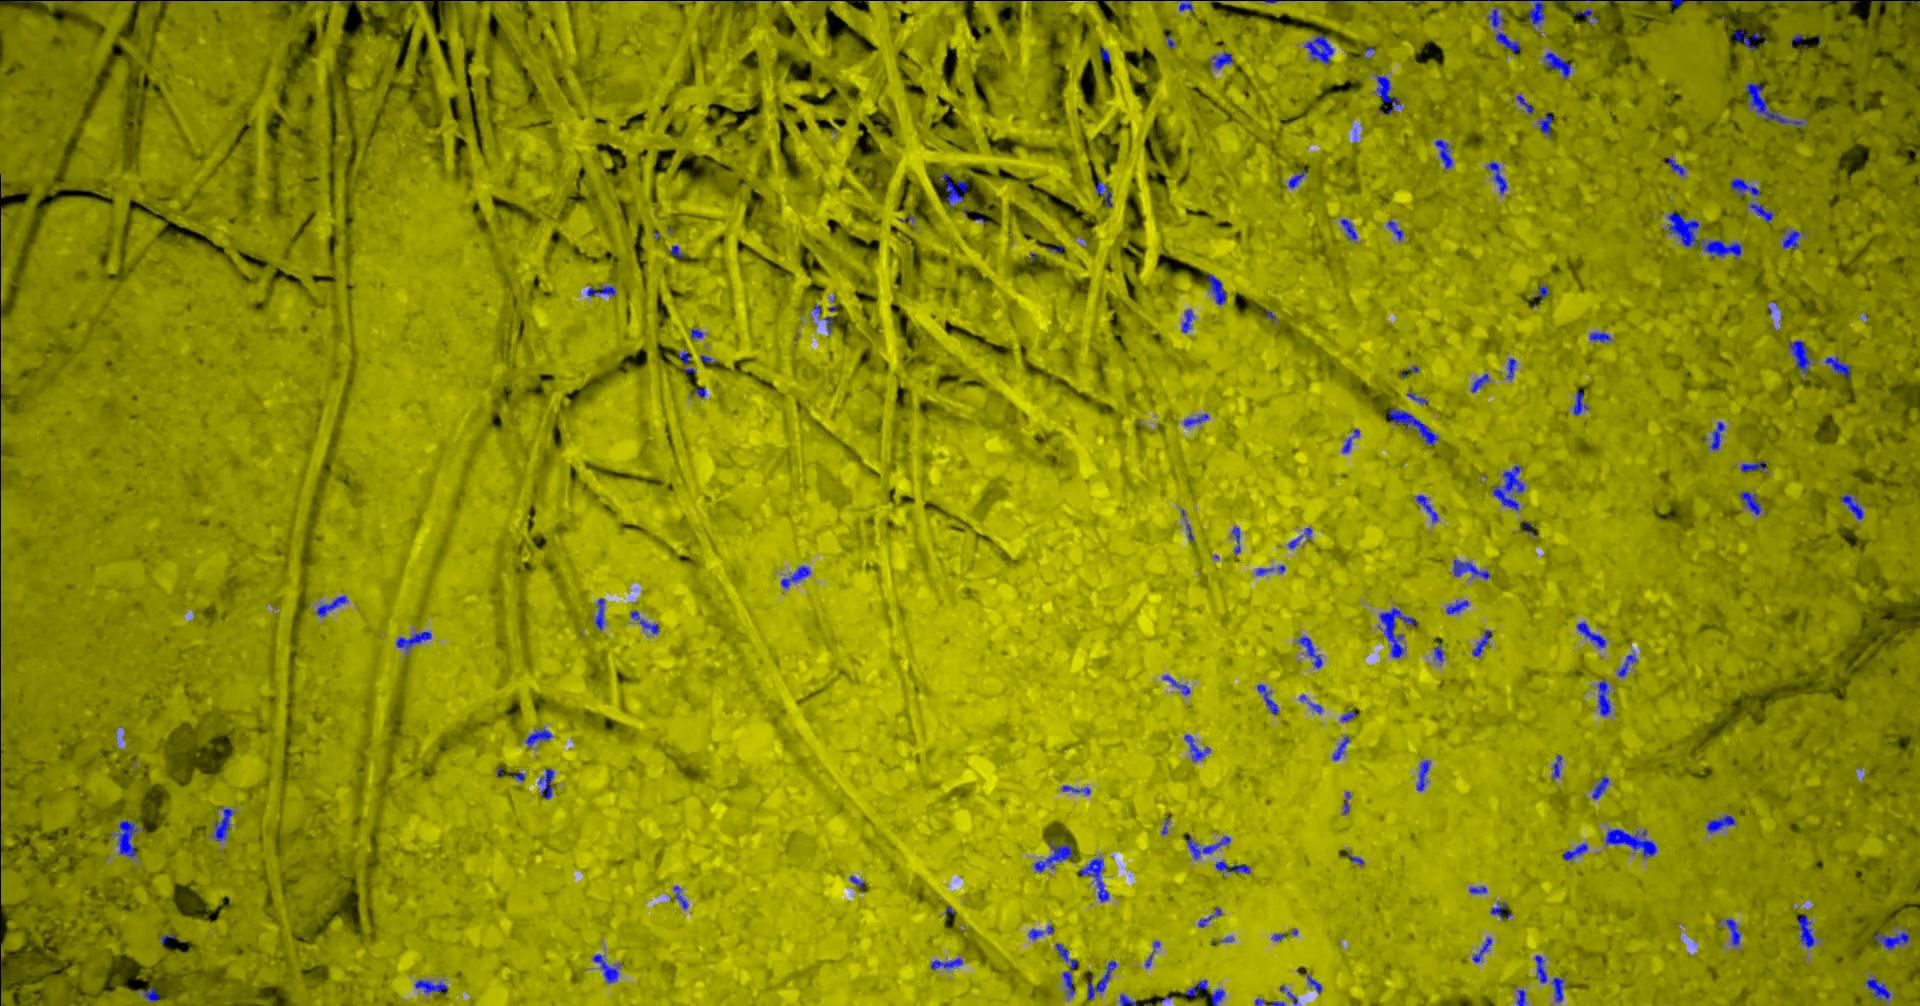ant: (1743, 81, 1802, 126), (1377, 607, 1417, 658), (1730, 177, 1773, 224), (1387, 406, 1437, 445), (1491, 465, 1524, 511), (1076, 857, 1109, 901), (1605, 828, 1656, 856), (1032, 840, 1072, 873), (1086, 959, 1116, 1000), (1055, 942, 1077, 997), (1186, 835, 1230, 859), (938, 171, 966, 210), (1374, 75, 1401, 113), (1303, 33, 1333, 64), (1872, 927, 1909, 950), (1297, 635, 1322, 668), (116, 819, 137, 857), (1575, 621, 1605, 648), (592, 953, 618, 983), (1451, 559, 1490, 579), (395, 631, 430, 652), (1484, 161, 1506, 194), (1788, 340, 1810, 373), (1543, 51, 1570, 77), (1183, 734, 1210, 761), (780, 565, 810, 588), (315, 594, 347, 616), (1823, 354, 1851, 379), (1256, 683, 1277, 714), (1415, 494, 1437, 522), (630, 610, 658, 633), (213, 808, 232, 841), (1796, 915, 1815, 948), (1839, 494, 1863, 520), (1495, 30, 1519, 55), (1864, 976, 1890, 998), (1733, 28, 1759, 50), (1208, 273, 1225, 304), (1162, 674, 1189, 695), (1434, 138, 1451, 168), (1705, 814, 1735, 832), (1596, 680, 1610, 716), (1470, 629, 1490, 655), (524, 729, 552, 747), (1214, 861, 1250, 875), (1738, 492, 1760, 514), (1288, 526, 1310, 547), (1197, 907, 1222, 927), (1470, 937, 1491, 962), (1095, 180, 1112, 207), (414, 979, 447, 993), (1709, 420, 1724, 450), (537, 768, 552, 798), (1561, 843, 1587, 860), (1723, 920, 1740, 946), (1617, 653, 1636, 676), (1299, 694, 1322, 713), (1341, 428, 1359, 452), (1416, 760, 1430, 790), (1528, 0, 1544, 25), (930, 956, 963, 969), (1210, 51, 1233, 69), (1537, 111, 1552, 137), (1572, 391, 1589, 415), (1332, 735, 1349, 760), (1027, 923, 1053, 939), (678, 351, 695, 373), (1591, 776, 1608, 799), (1185, 979, 1208, 996), (673, 885, 688, 909), (1279, 984, 1297, 1005), (1340, 218, 1356, 240), (1490, 902, 1511, 918), (1534, 954, 1547, 982), (1255, 564, 1285, 575), (1666, 158, 1685, 175), (1288, 169, 1305, 188), (1782, 230, 1799, 249), (1470, 373, 1488, 392), (1740, 460, 1766, 473), (1550, 976, 1563, 1002), (1516, 94, 1533, 114), (1387, 220, 1403, 240), (585, 285, 615, 296), (594, 597, 604, 629), (1575, 8, 1597, 22), (1445, 600, 1468, 614), (1487, 8, 1503, 27), (1183, 413, 1208, 426), (1181, 309, 1194, 332), (1534, 283, 1548, 302), (1060, 785, 1090, 794), (1305, 976, 1321, 992), (1230, 526, 1239, 554), (1505, 357, 1516, 379), (1550, 754, 1561, 779), (1434, 641, 1444, 664), (1210, 988, 1224, 1005), (1589, 332, 1610, 342), (143, 987, 159, 1001), (1119, 993, 1137, 1005), (1338, 710, 1355, 721), (1255, 998, 1284, 1005), (1515, 989, 1526, 1005), (1178, 0, 1192, 11), (669, 245, 683, 257), (1343, 791, 1350, 814), (690, 328, 702, 338), (1468, 887, 1486, 893)
